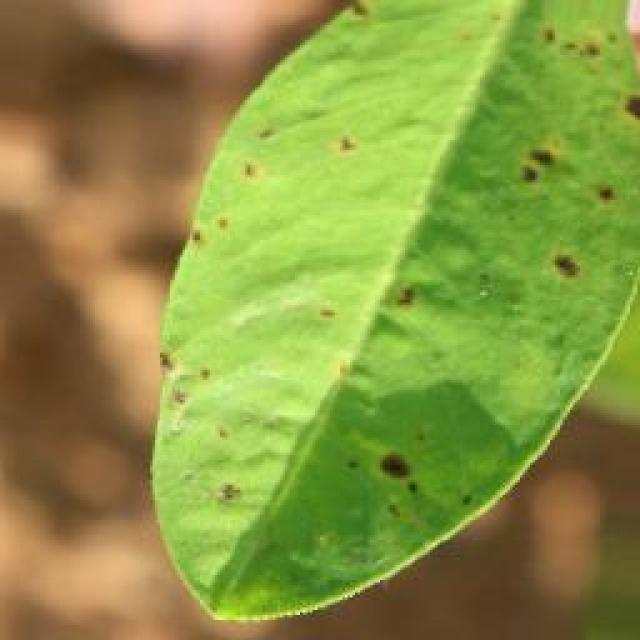Sigatoka: (510, 0, 640, 126), (477, 117, 627, 212), (152, 334, 235, 449), (351, 411, 440, 507), (292, 115, 380, 200), (223, 111, 299, 197), (178, 186, 258, 256), (382, 271, 462, 341), (534, 223, 616, 288), (210, 442, 278, 510), (291, 279, 358, 340), (305, 0, 375, 35)
